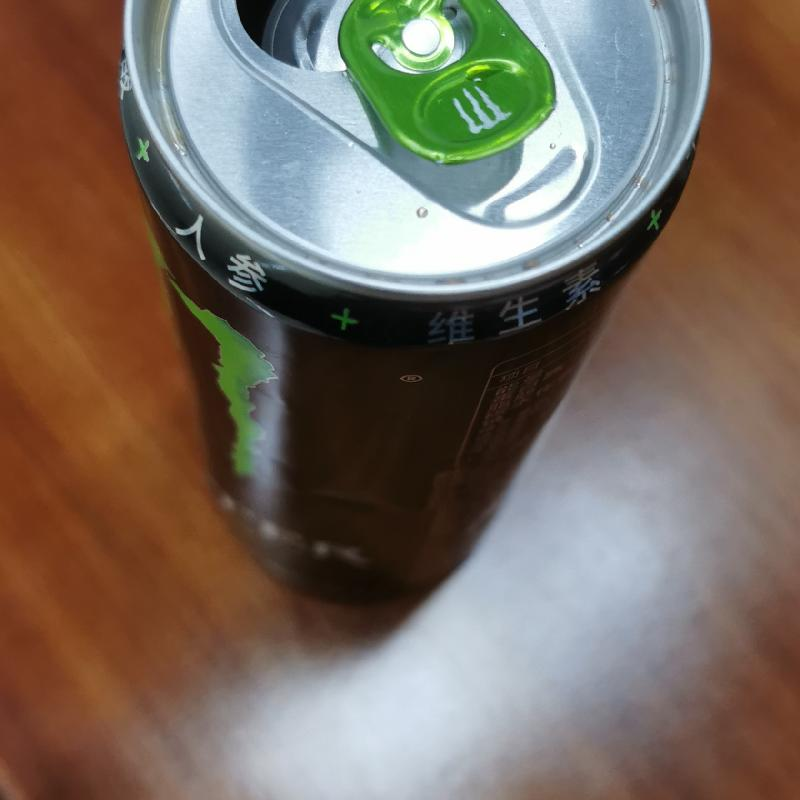cans: (109, 0, 718, 613)
